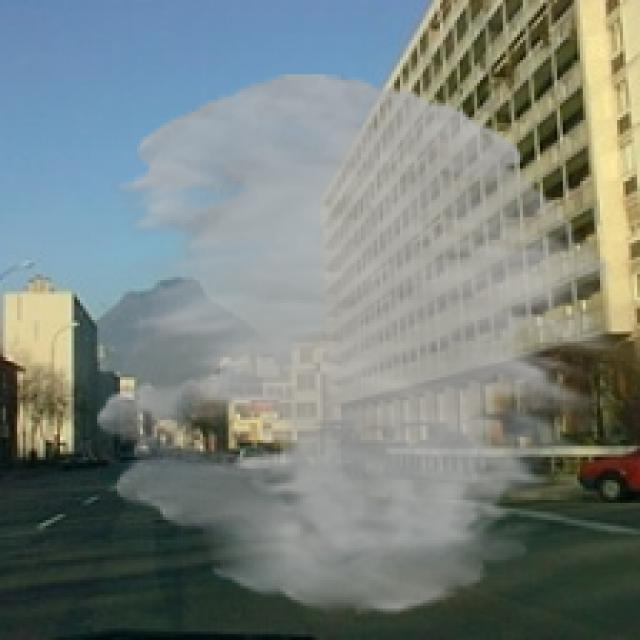Smoke: (97, 75, 617, 614)
